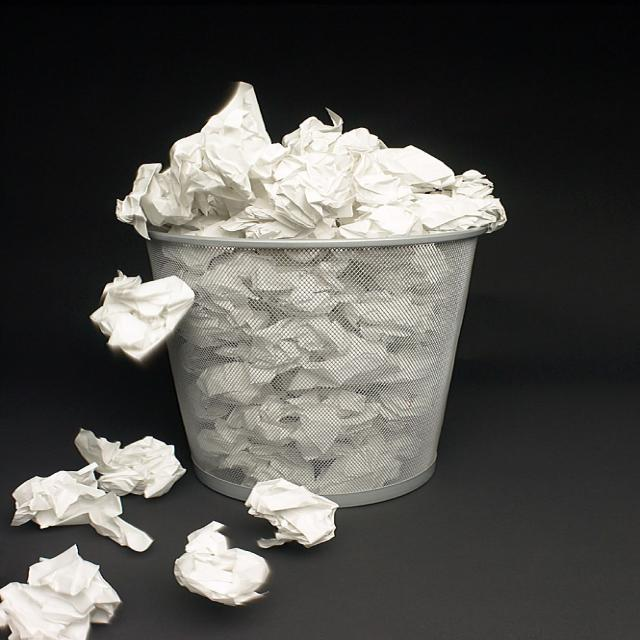PaperCardboard: (121, 80, 506, 239), (7, 464, 150, 548), (3, 545, 117, 640), (88, 268, 185, 355), (75, 423, 181, 487), (179, 523, 262, 597), (243, 478, 336, 541)
